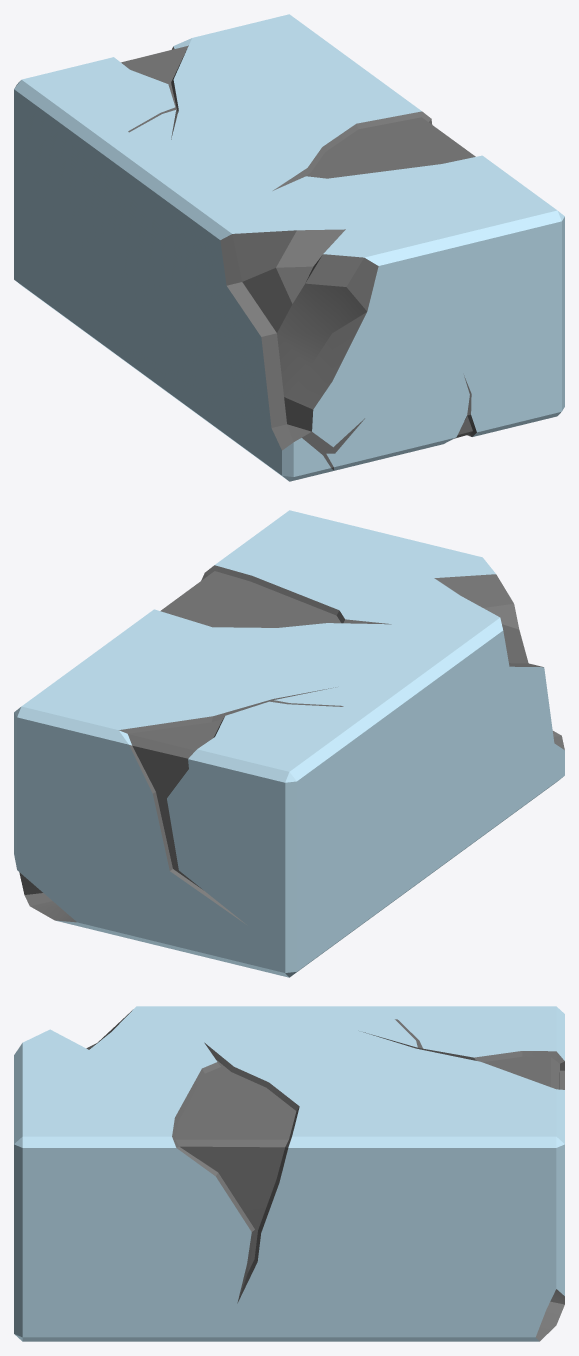
The model's file is StoneBlock1.fbx.
3 renders of one model, top to bottom at view 1: azimuth 30°, elevation 25°; view 2: azimuth 150°, elevation 25°; view 3: azimuth 270°, elevation 25°, orthographic.
Parts seen in each view (by area): view 1: StoneBlock1_LOD0; view 2: StoneBlock1_LOD0; view 3: StoneBlock1_LOD0.
Boxes of the visible parts, x1,y1,x2,y2 form: StoneBlock1_LOD0: (14, 14, 564, 481); StoneBlock1_LOD0: (14, 510, 564, 977); StoneBlock1_LOD0: (14, 1006, 564, 1341).
Size of what is drawn, in the model's own units: 590 by 410 by 999.
